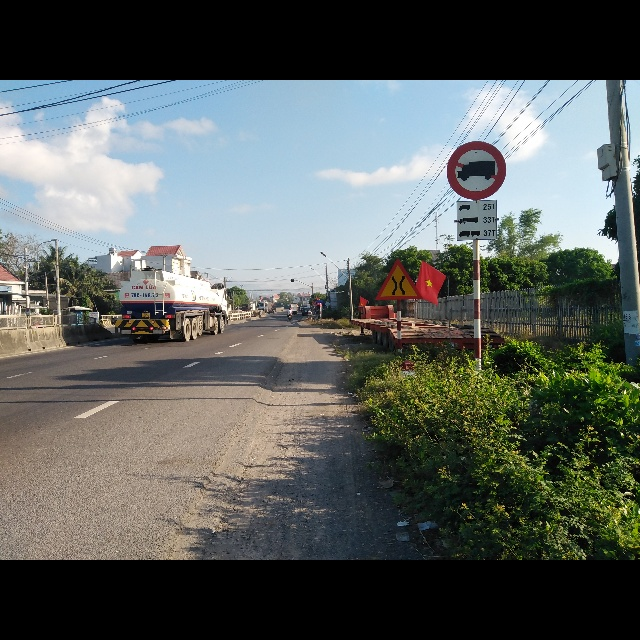Cấm xe tải: (447, 140, 508, 206)
Cầu hẹp: (375, 260, 421, 302)
